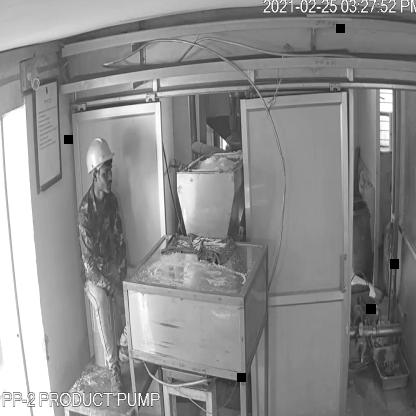helmet: (83, 130, 117, 176)
